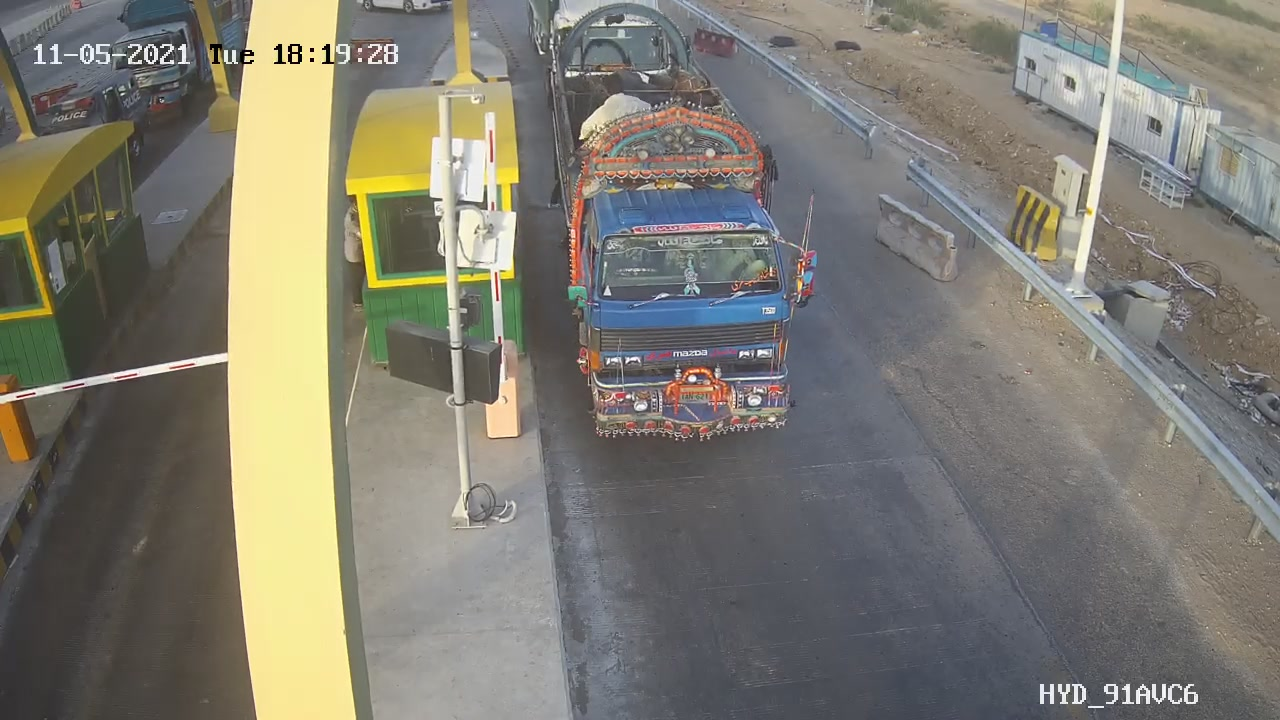F5: (541, 64, 833, 455)
